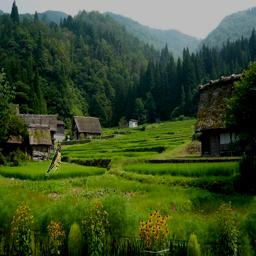Swallow: (45, 143, 61, 176)
